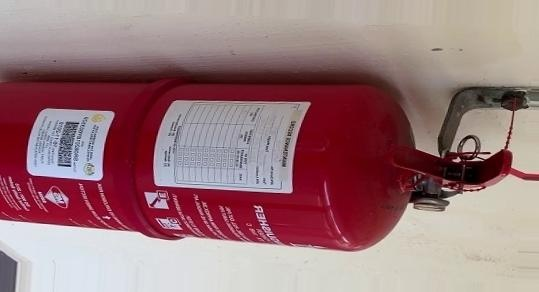fire_extinguisher: (1, 78, 538, 252)
